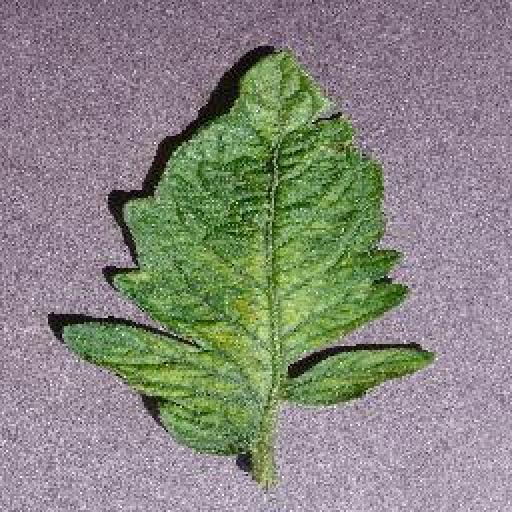Mosaic Virus: (60, 44, 440, 458)
